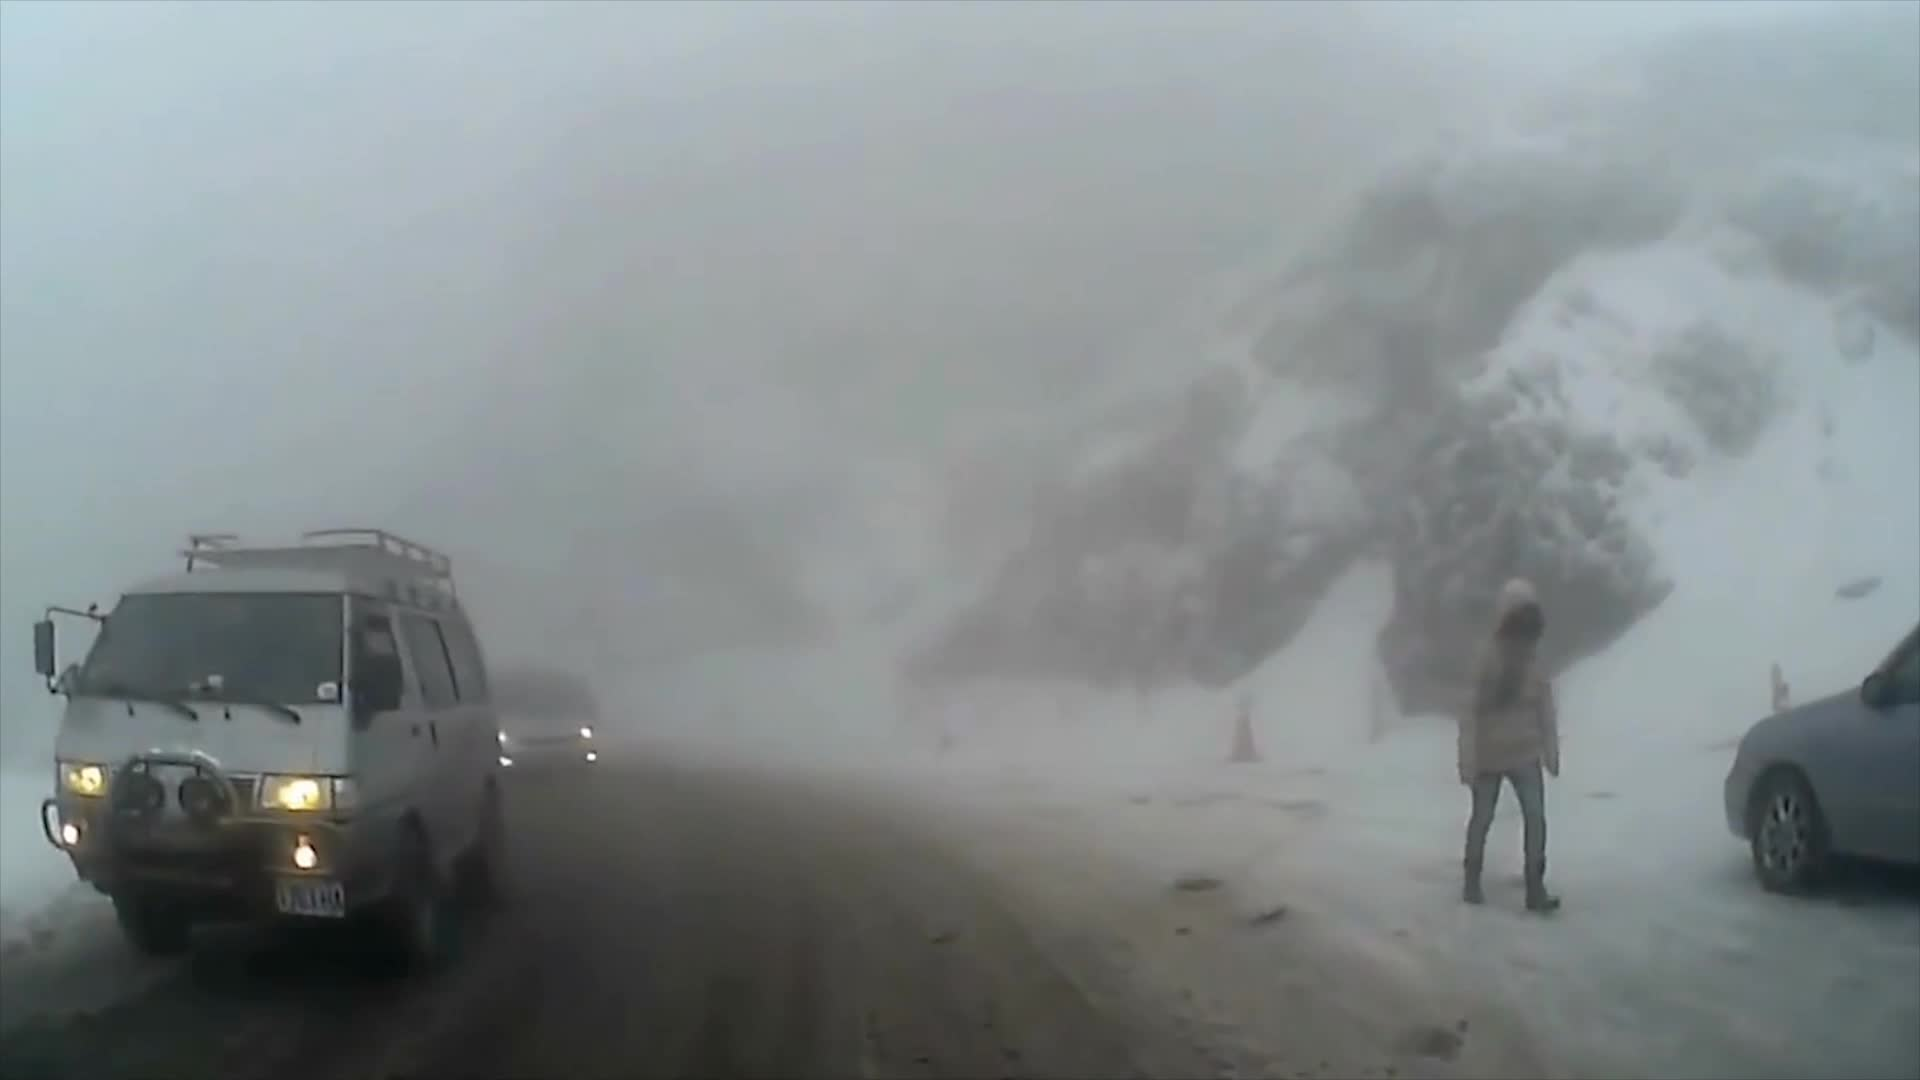pedestrian: (1449, 577, 1560, 915)
vehicle: (29, 524, 507, 980), (1722, 618, 1920, 905), (448, 669, 601, 787)
